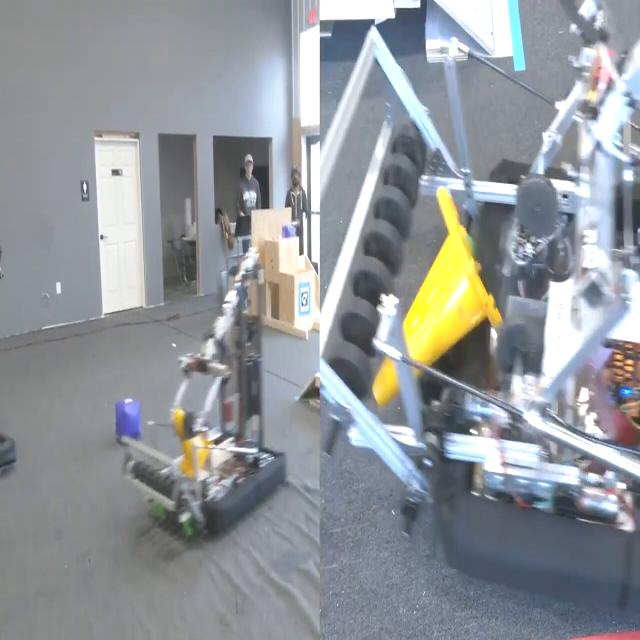frc_cone: (367, 220, 488, 404), (172, 406, 218, 480)
frc_cube: (110, 396, 148, 442), (281, 216, 299, 241)
